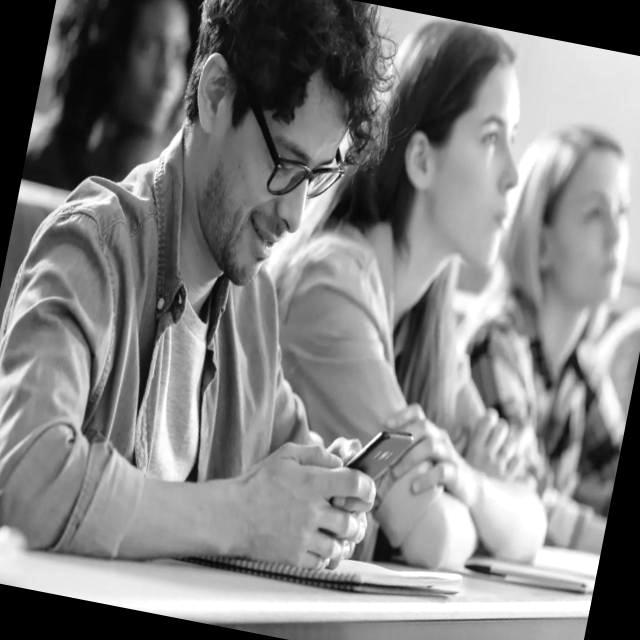phone: (341, 420, 416, 488)
